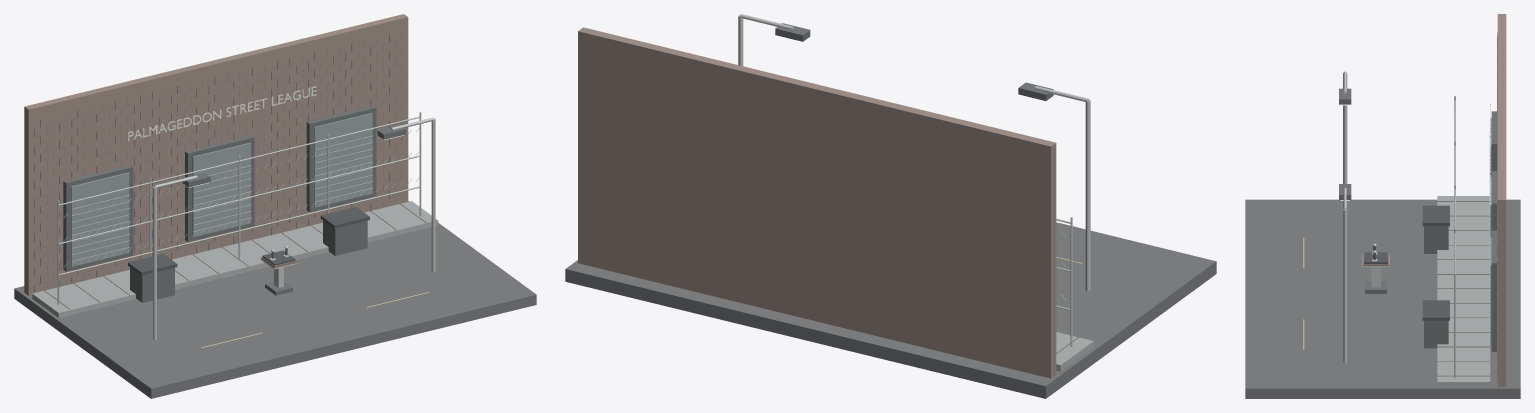
The model's file is street_slap_stage.glb.
The picture shows the model from 3 angles, left to right: view 1: azimuth 30°, elevation 25°; view 2: azimuth 150°, elevation 25°; view 3: azimuth 270°, elevation 25°; orthographic projection. The views are drawn at different scales.
Visible parts, largest first — view 1: Real red brick commercial facade, Dry finished floor, Uneven street sidewalk, Street shopfront glass, Street shopfront glass.002, Street shopfront glass.001, Street shopfront aluminum frame, Street shopfront aluminum frame.002, Street shopfront aluminum frame.001, Sidewalk rusted steel dumpster.001, Sidewalk rusted steel dumpster, Gym promotion city poster (+7 smaller); view 2: Real red brick commercial facade, Dry finished floor, Galvanized street pole, Uneven street sidewalk; view 3: Dry finished floor, Uneven street sidewalk, Real red brick commercial facade, Galvanized street pole.001, Street shopfront aluminum frame.002, Sidewalk rusted steel dumpster.001, Sidewalk rusted steel dumpster, Dumpster working lid, Dumpster working lid.001, Galvanized street pole, Street shopfront aluminum frame, Street shopfront aluminum frame.001 (+2 smaller).
Part boxes in pixels (x1=…): Real red brick commercial facade: x1=24, y1=14, x2=408, y2=295; Dry finished floor: x1=14, y1=201, x2=536, y2=398; Uneven street sidewalk: x1=32, y1=201, x2=438, y2=317; Street shopfront glass: x1=71, y1=172, x2=129, y2=266; Street shopfront glass.002: x1=314, y1=113, x2=372, y2=207; Street shopfront glass.001: x1=192, y1=142, x2=250, y2=237; Street shopfront aluminum frame: x1=63, y1=165, x2=133, y2=271; Street shopfront aluminum frame.002: x1=306, y1=105, x2=376, y2=212; Street shopfront aluminum frame.001: x1=185, y1=135, x2=254, y2=241; Sidewalk rusted steel dumpster.001: x1=323, y1=220, x2=367, y2=255; Sidewalk rusted steel dumpster: x1=130, y1=267, x2=174, y2=302; Gym promotion city poster: x1=128, y1=86, x2=316, y2=141; Real red brick commercial facade: x1=578, y1=27, x2=1056, y2=378; Dry finished floor: x1=565, y1=222, x2=1216, y2=398; Galvanized street pole: x1=1085, y1=99, x2=1090, y2=291; Uneven street sidewalk: x1=1056, y1=332, x2=1093, y2=371; Dry finished floor: x1=1245, y1=199, x2=1520, y2=398; Uneven street sidewalk: x1=1437, y1=196, x2=1490, y2=387; Real red brick commercial facade: x1=1497, y1=14, x2=1506, y2=386; Galvanized street pole.001: x1=1343, y1=209, x2=1347, y2=363; Street shopfront aluminum frame.002: x1=1491, y1=230, x2=1496, y2=351; Sidewalk rusted steel dumpster.001: x1=1424, y1=320, x2=1448, y2=348; Sidewalk rusted steel dumpster: x1=1424, y1=226, x2=1448, y2=253; Dumpster working lid: x1=1422, y1=205, x2=1449, y2=226; Dumpster working lid.001: x1=1422, y1=300, x2=1449, y2=320; Galvanized street pole: x1=1343, y1=72, x2=1347, y2=209; Street shopfront aluminum frame: x1=1491, y1=111, x2=1496, y2=170; Street shopfront aluminum frame.001: x1=1491, y1=171, x2=1496, y2=230.
Size of the model in its own units: 13 by 6.34 by 8.
